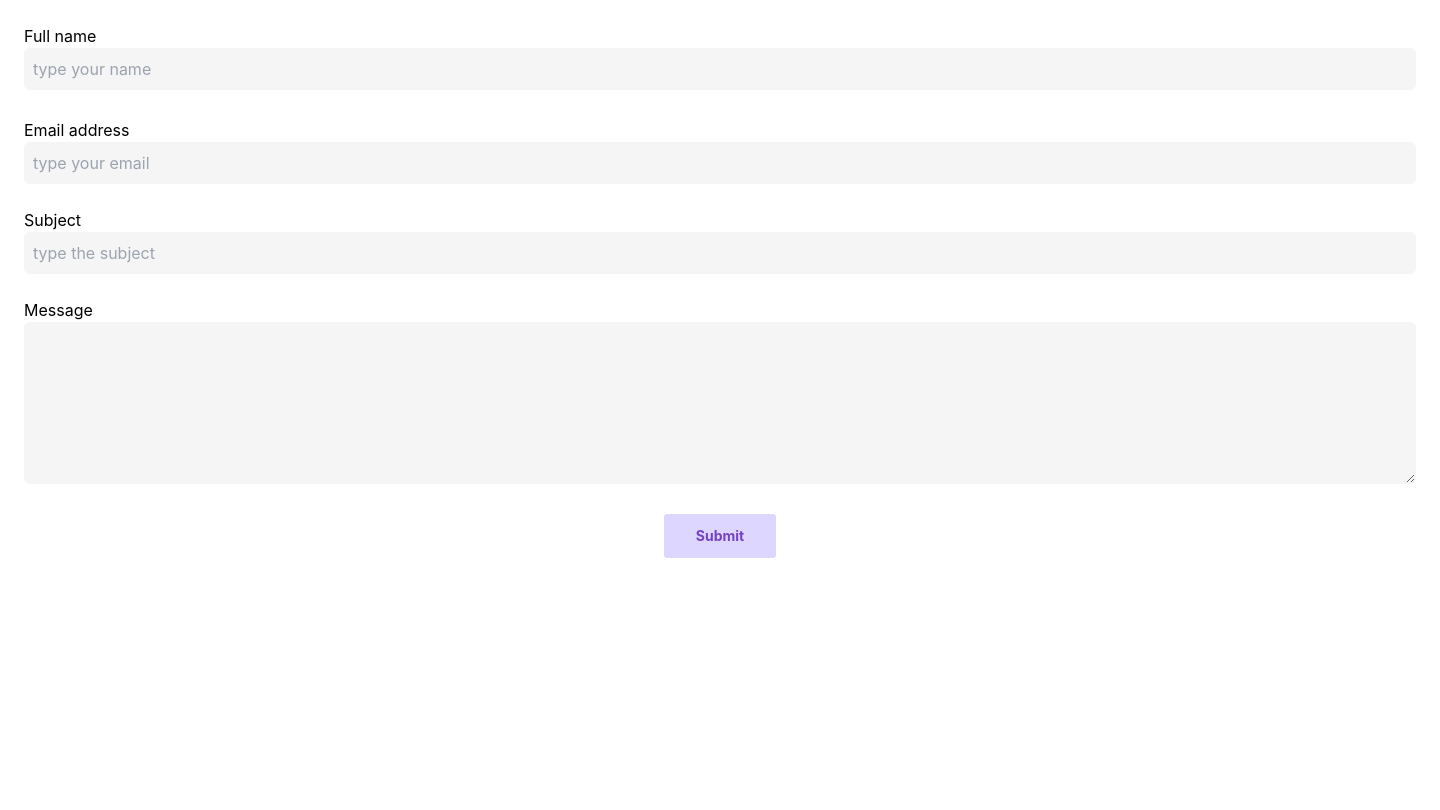
Form Component › validates email format
In the field labelled "Email address": (720, 163) [24,142,1416,184], type "foo"
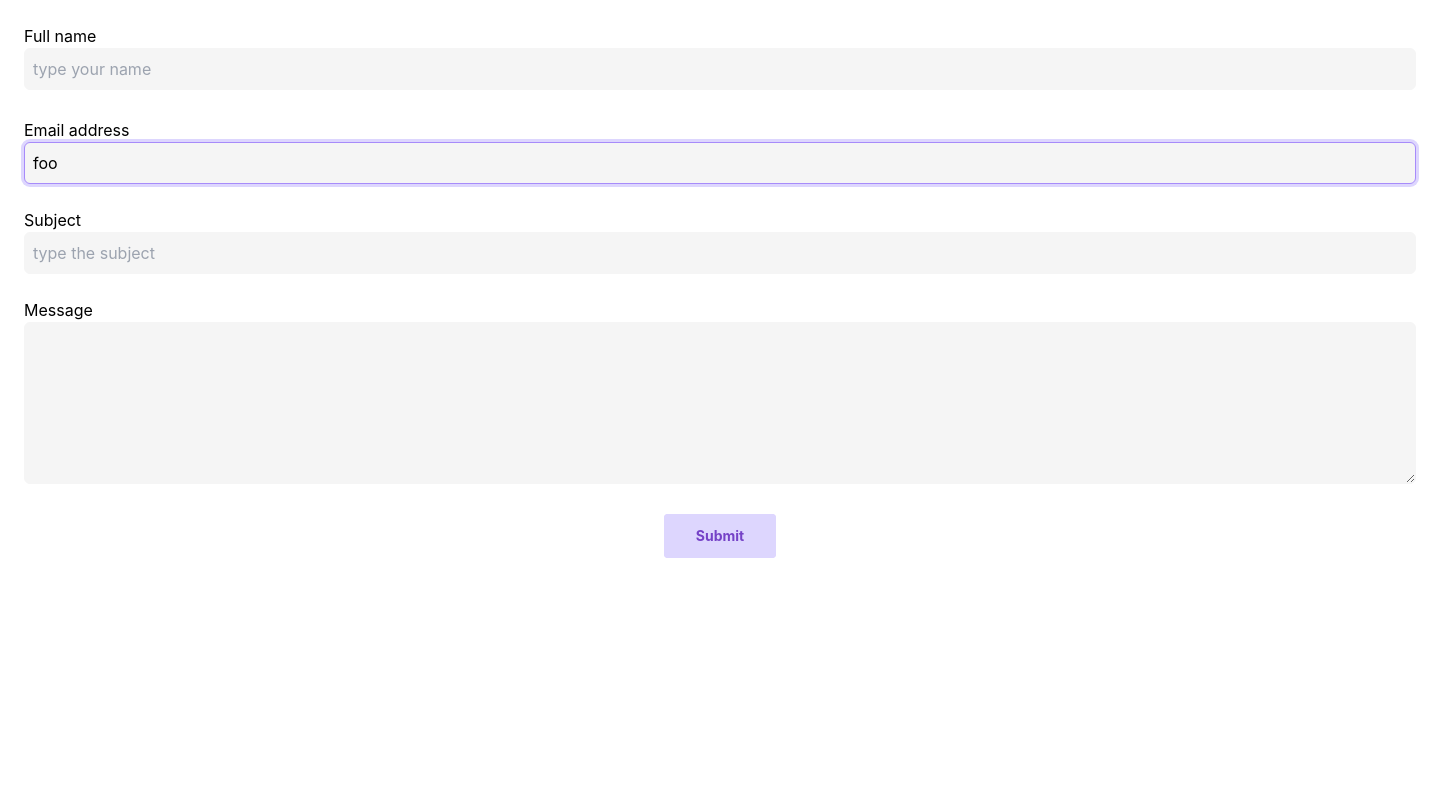
Click the button "Submit": click(720, 536) [664,514,776,558]
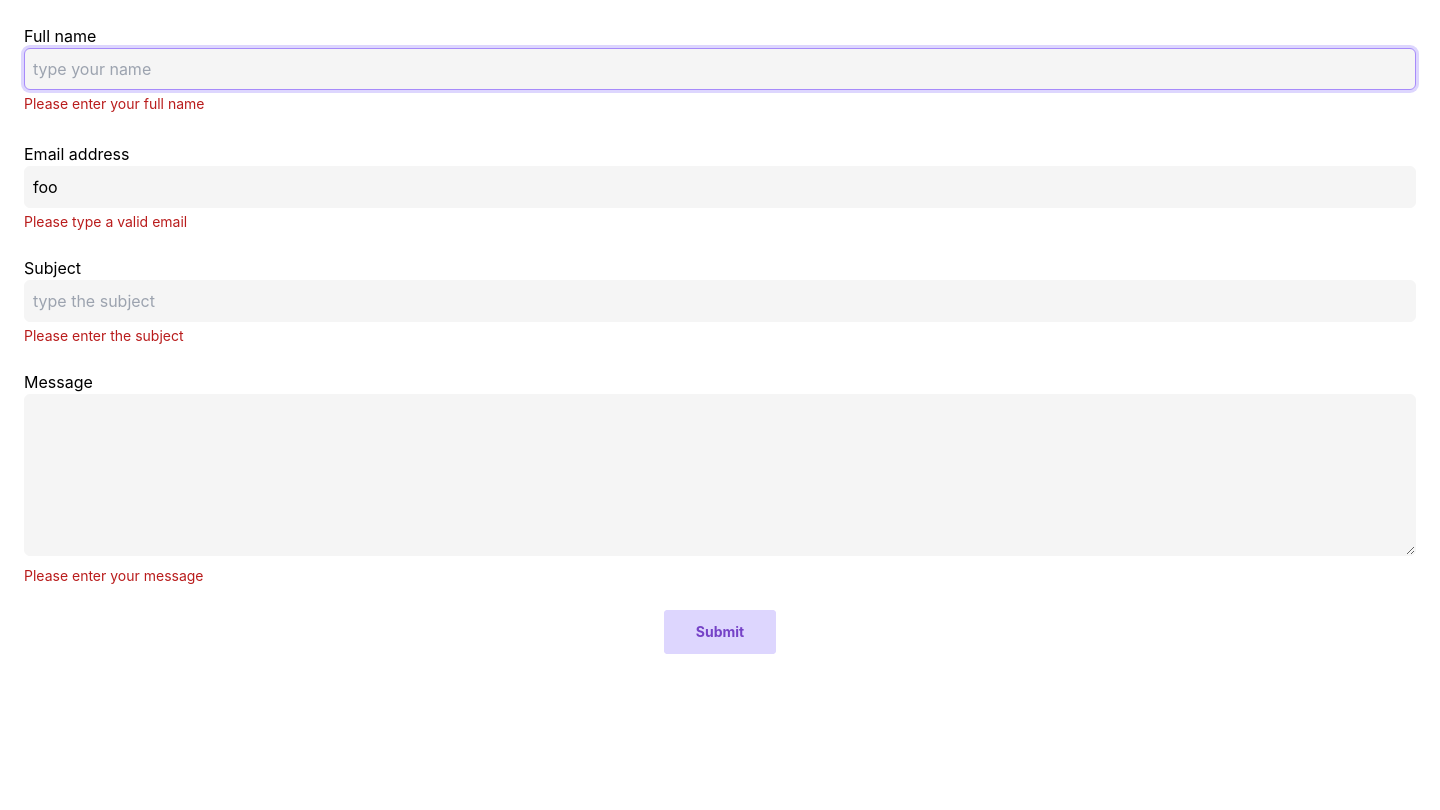
Expected: the text "Please type a valid email" is shown, [24,213,187,230]
